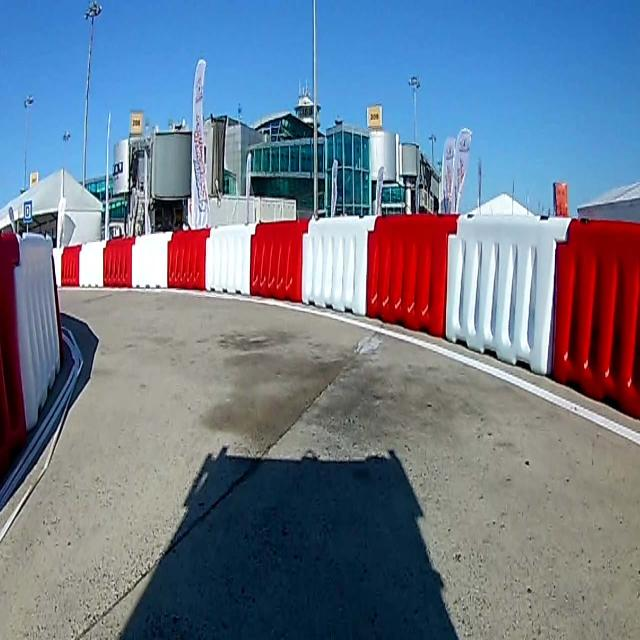durak: (22, 200, 32, 224)
